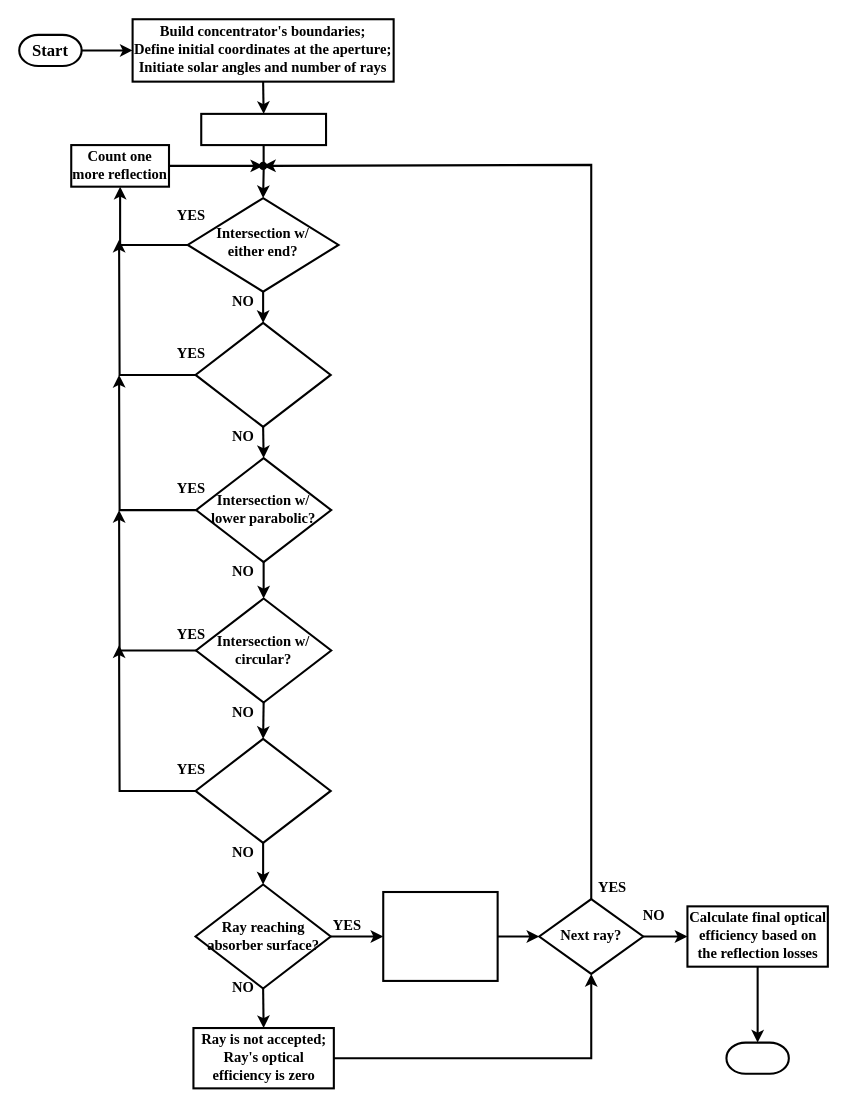
Some shapes in this 847 by 1107 pixel diagram are drawn without their labels. Here are the shapes that lost their labels. From the top down, the centre of each, then its label:
At (263,129): "Start first ray".
At (262,374): "Intersection w/ upper parabolic?".
At (262,790): "Intersection w/ either straight?".
At (440,935): "Calculate ray's optical efficiency; Number of reflections set to zero".
At (757,1057): "End".
